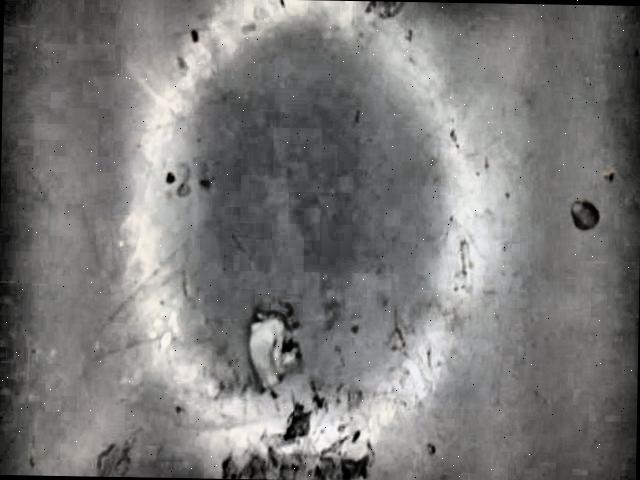Paper: (226, 310, 320, 390)
